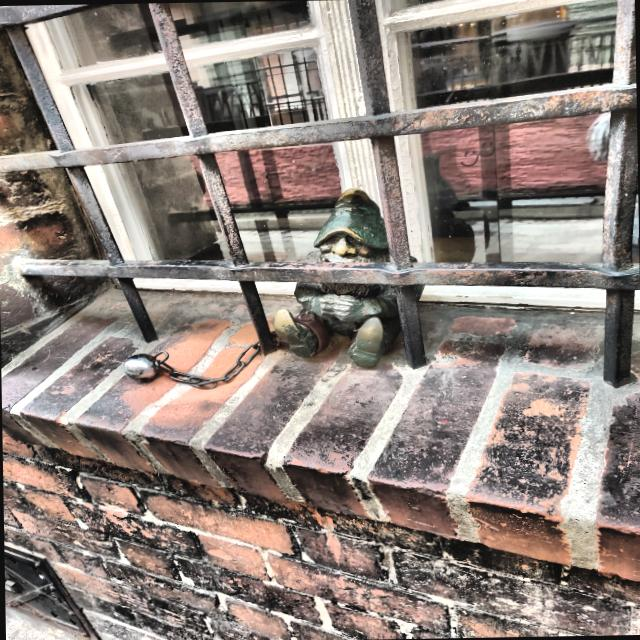Wiezien: (273, 282, 400, 367), (122, 342, 259, 388), (306, 188, 389, 263), (414, 286, 423, 298), (409, 256, 416, 262)
